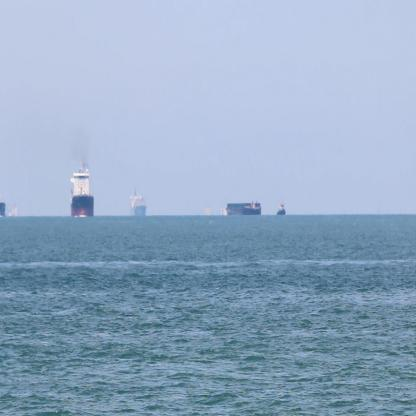Container Ship: (69, 154, 96, 217), (222, 197, 262, 217), (127, 182, 148, 217), (274, 191, 287, 216)
